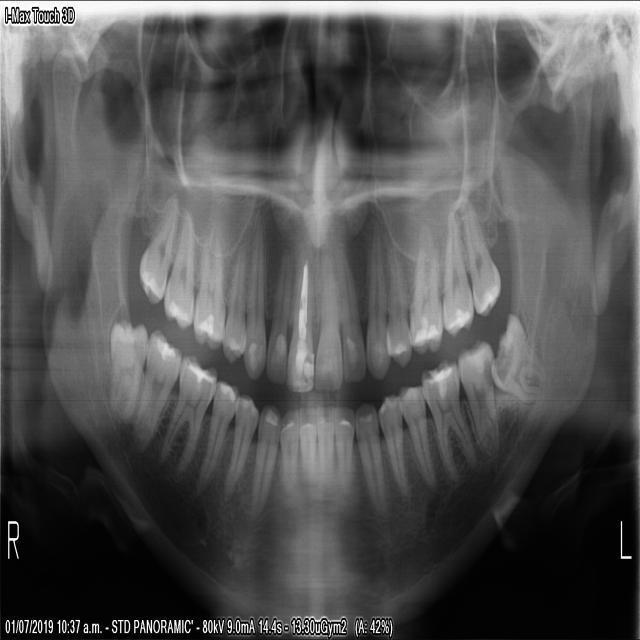LCD: (355, 400, 387, 520)
LCU: (365, 218, 391, 380)
LID: (316, 402, 336, 487), (335, 400, 355, 480)
LIU: (313, 232, 343, 392), (335, 235, 367, 379)
LMD: (420, 357, 477, 483), (458, 339, 501, 458), (493, 312, 546, 405)
LMU: (409, 198, 445, 353), (461, 195, 501, 324), (442, 208, 473, 343)
LPMD: (402, 383, 435, 493), (380, 393, 408, 502)
LPMU: (386, 223, 416, 367)
RCD: (249, 403, 282, 524)
RCU: (244, 209, 266, 382)
RID: (279, 403, 299, 495), (298, 405, 318, 488)
RIU: (284, 228, 314, 394), (266, 234, 294, 385)
RMD: (158, 355, 215, 475), (133, 329, 182, 455), (108, 322, 147, 432)
RMU: (135, 185, 181, 310), (192, 218, 227, 353), (161, 202, 195, 332)
RPMD: (198, 377, 237, 489), (221, 390, 258, 504)
RPMU: (222, 208, 247, 372)
